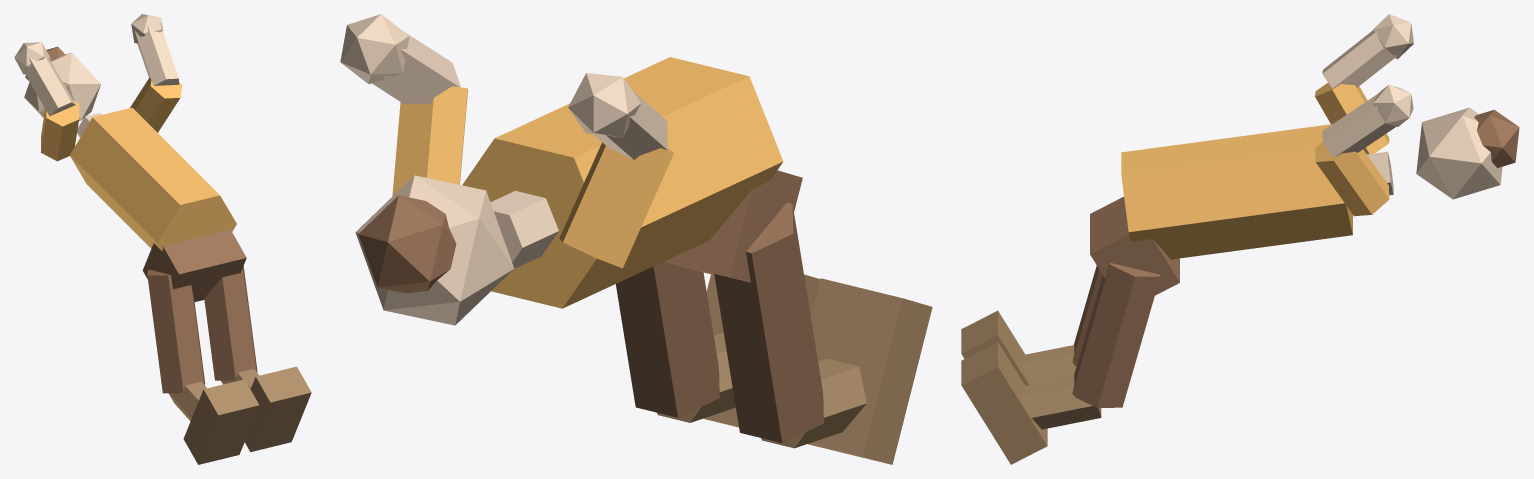
The model's file is pose_dodge_roll_14.glb.
The picture shows the model from 3 angles, left to right: view 1: azimuth 30°, elevation 25°; view 2: azimuth 150°, elevation 25°; view 3: azimuth 270°, elevation 25°; orthographic projection. The views are drawn at different scales.
Parts seen in each view (by area): view 1: pose; view 2: pose; view 3: pose.
Part boxes in pixels (x1=…): pose: x1=14, y1=14, x2=311, y2=464; pose: x1=340, y1=14, x2=932, y2=464; pose: x1=961, y1=14, x2=1519, y2=464.
Size of the model in its own units: 0.4876 by 1.01 by 1.33.
